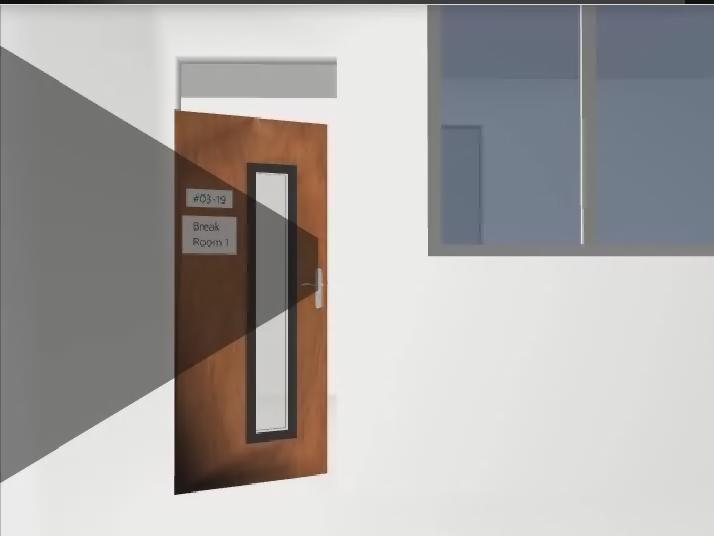door: (174, 110, 328, 495)
